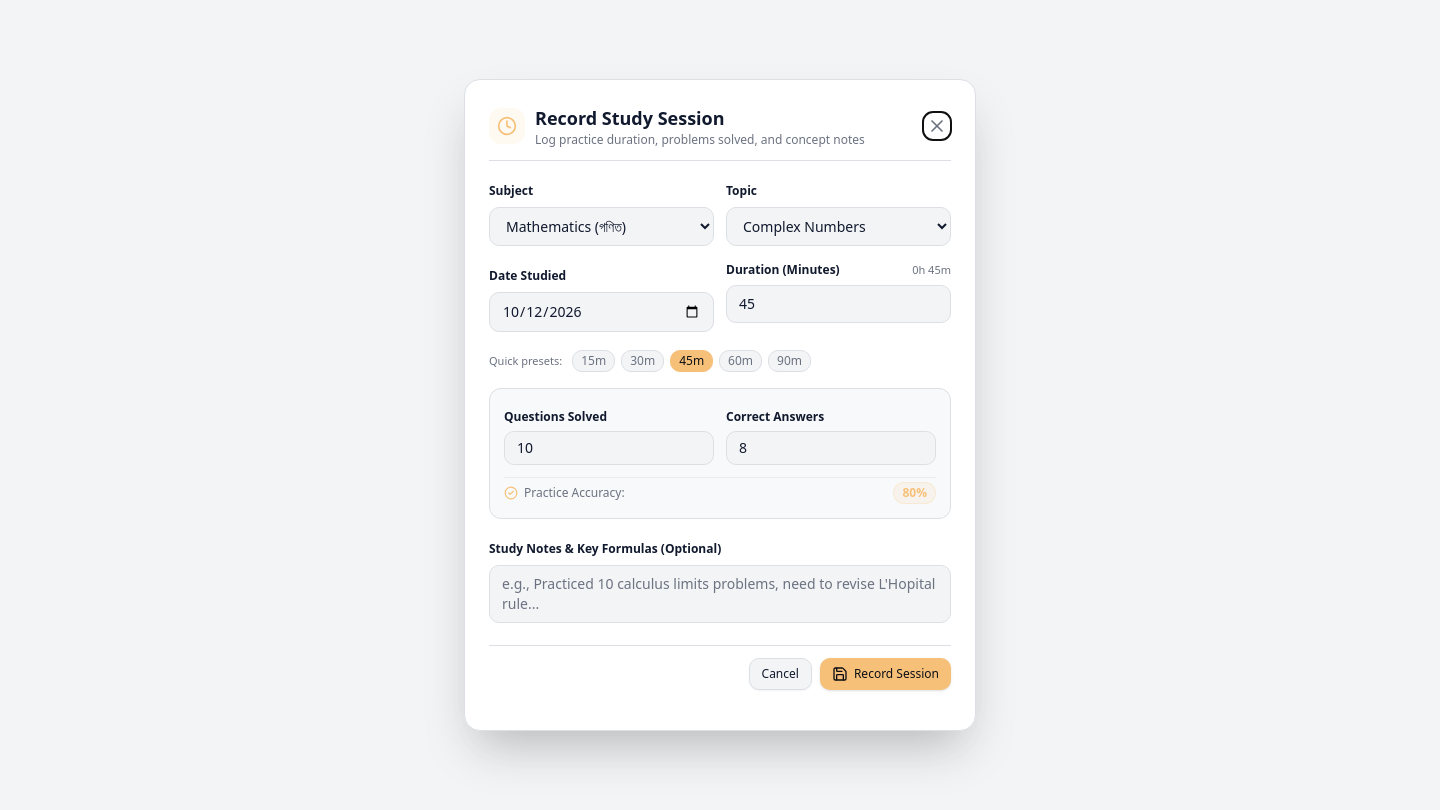
Scenario: RecordSessionModal › updates duration when a quick preset button is clicked
This screenshot has width=1440, height=810.
What coordinates should you click on to do the following:
click the button "60m"
I would click on:
 (741, 361)
Its box is top-left (719, 350), bottom-right (762, 372).
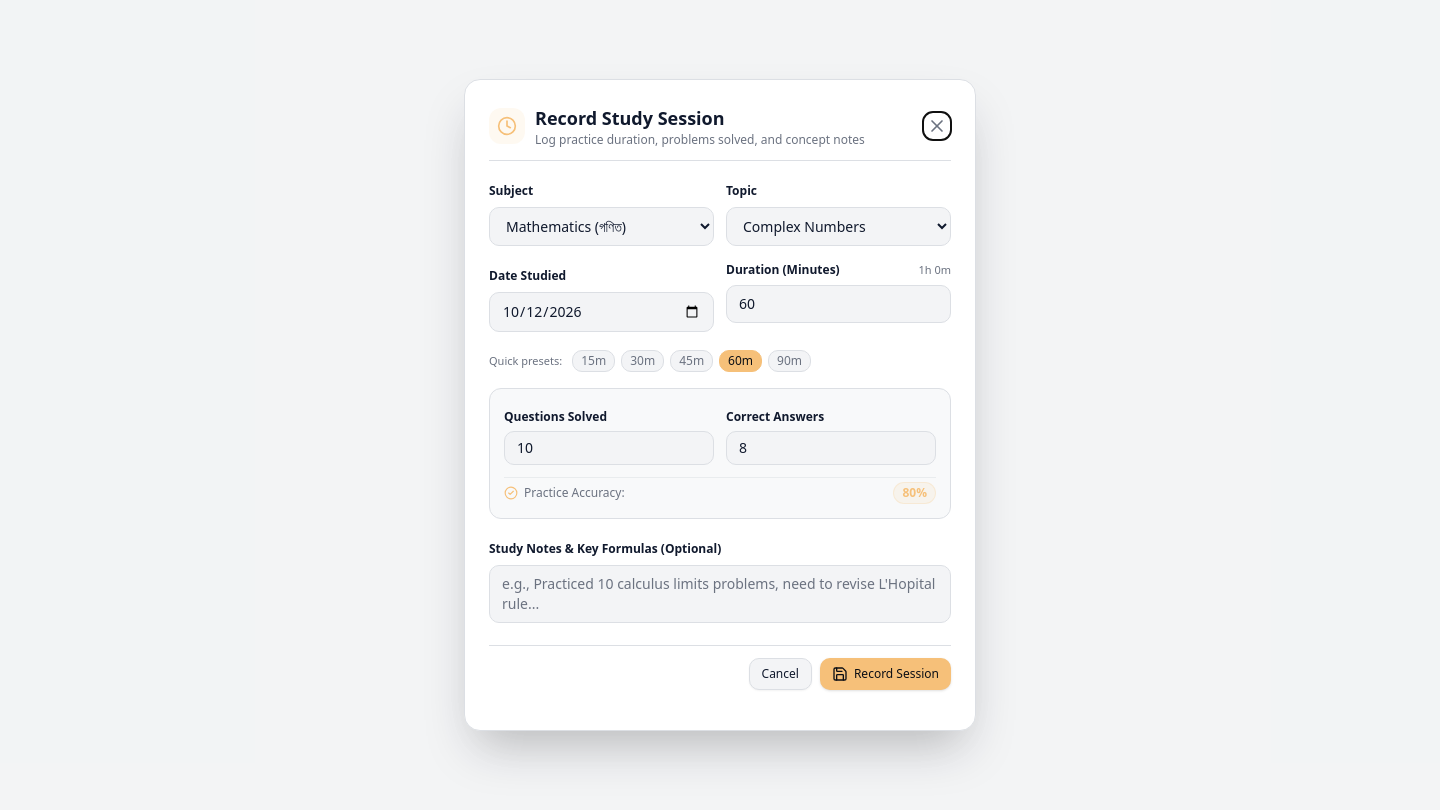
Check: the number field labelled "Duration (Minutes)" holds "60", box top-left (726, 284), bottom-right (951, 322)
